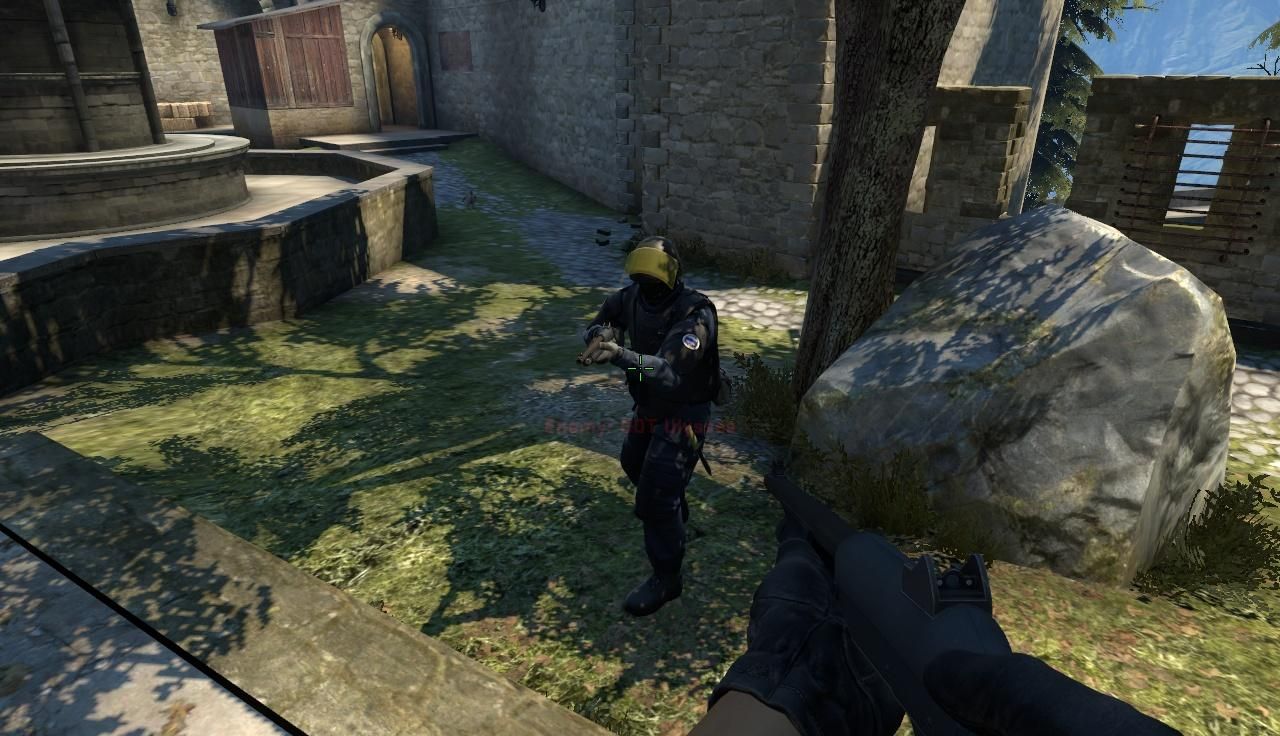ct: (599, 241, 711, 609)
cthead: (623, 242, 680, 296)
rifle: (756, 483, 1195, 736)
